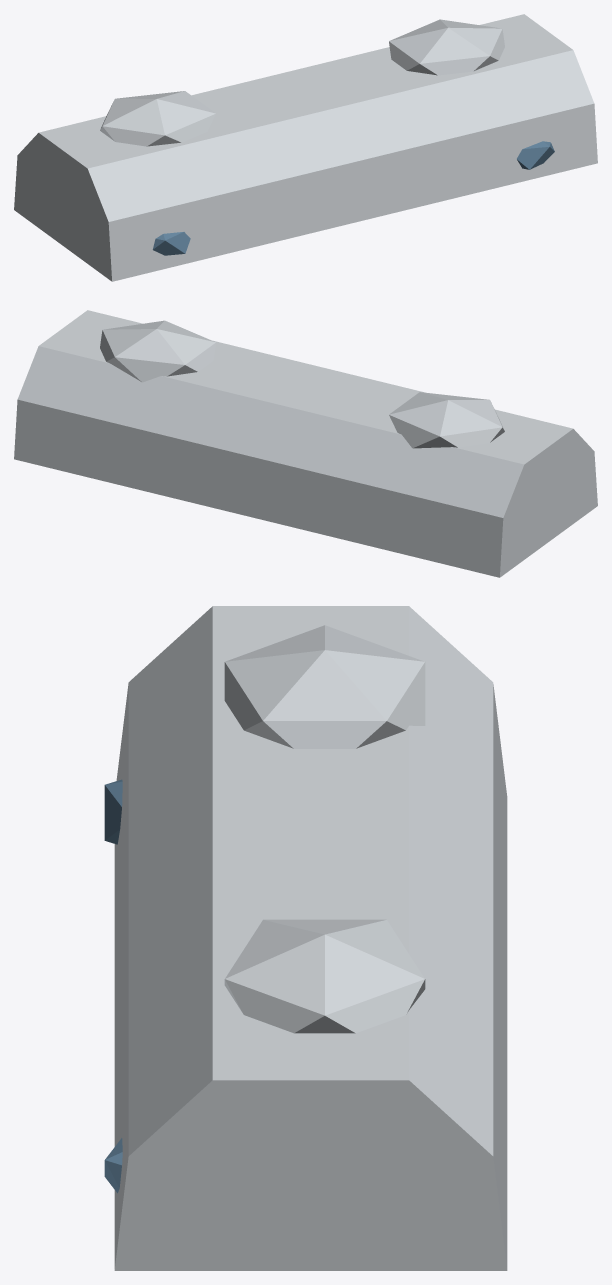
File: Frosty_SnowbankStraight_Showcase.glb
The picture shows the model from 3 angles, top to bottom: view 1: azimuth 30°, elevation 25°; view 2: azimuth 150°, elevation 25°; view 3: azimuth 270°, elevation 25°; orthographic projection. The views are drawn at different scales.
Visible parts, largest first — view 1: Frosty_SnowbankStraight_Showcase; view 2: Frosty_SnowbankStraight_Showcase; view 3: Frosty_SnowbankStraight_Showcase.
Part boxes in pixels (bbox=[...]): Frosty_SnowbankStraight_Showcase: bbox=[14, 14, 597, 281]; Frosty_SnowbankStraight_Showcase: bbox=[14, 310, 597, 577]; Frosty_SnowbankStraight_Showcase: bbox=[104, 606, 507, 1270].
Size of the model in its own units: 4 by 0.95 by 1.44.
